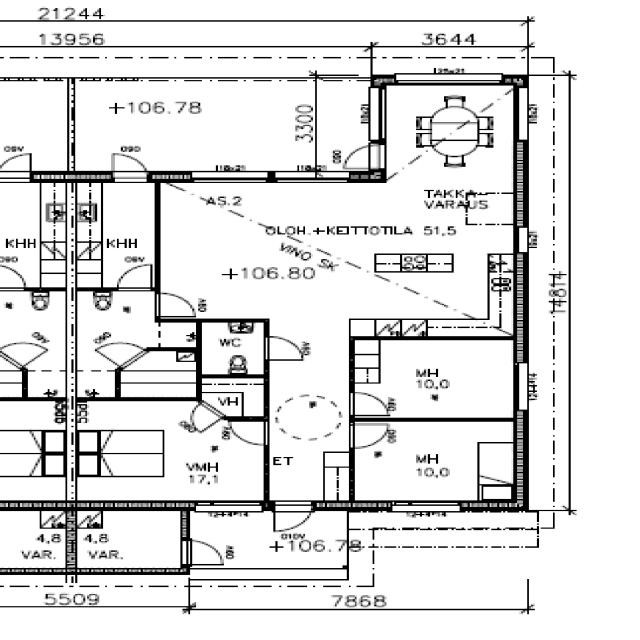door: (96, 334, 148, 369), (179, 400, 226, 432), (274, 500, 310, 536), (334, 146, 386, 169), (113, 148, 146, 182), (180, 541, 225, 564), (117, 264, 151, 292), (263, 337, 304, 360), (349, 424, 388, 448), (230, 422, 270, 445), (348, 393, 388, 416), (155, 294, 194, 316)
